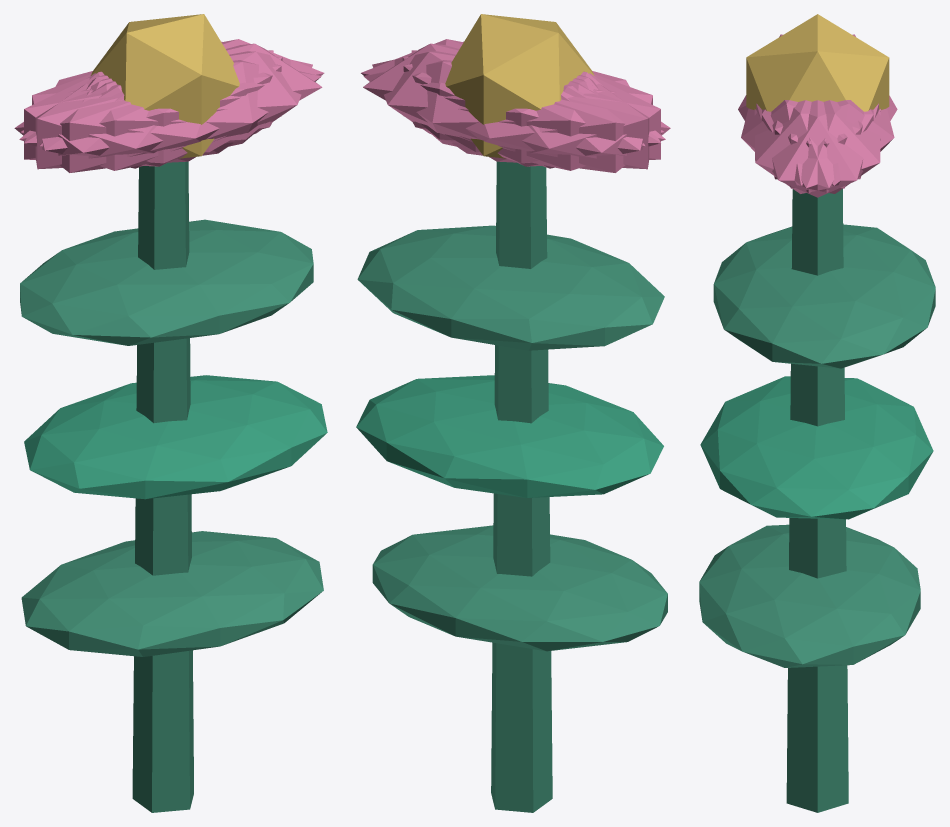
File: acacia-mangium.glb
3 renders of one model, left to right at view 1: azimuth 30°, elevation 25°; view 2: azimuth 150°, elevation 25°; view 3: azimuth 270°, elevation 25°, orthographic.
Visible parts, largest first — view 1: leaf0, leaf1, leaf2, stem, center, petal1, petal6, petal2, petal5, petal7, petal0, petal4 (+2 smaller); view 2: leaf2, leaf1, leaf0, stem, center, petal8, petal3, petal7, petal4, petal2, petal0, petal5 (+2 smaller); view 3: leaf1, leaf2, leaf0, stem, center, petal0, petal4, petal5, petal1, petal8.
Part boxes in pixels (left/top/right/bottom): leaf0: left=21, top=531, right=323, bottom=656; leaf1: left=24, top=375, right=327, bottom=499; leaf2: left=20, top=219, right=313, bottom=345; stem: left=132, top=161, right=193, bottom=812; center: left=90, top=14, right=239, bottom=158; petal1: left=19, top=60, right=321, bottom=170; petal6: left=14, top=73, right=233, bottom=172; petal2: left=35, top=50, right=273, bottom=169; petal5: left=40, top=51, right=312, bottom=163; petal7: left=24, top=56, right=282, bottom=166; petal0: left=90, top=43, right=322, bottom=152; petal4: left=21, top=39, right=324, bottom=143; leaf2: left=357, top=225, right=664, bottom=350; leaf1: left=356, top=375, right=663, bottom=497; leaf0: left=372, top=525, right=667, bottom=651; stem: left=491, top=161, right=552, bottom=812; center: left=445, top=14, right=594, bottom=158; petal8: left=363, top=60, right=665, bottom=170; petal3: left=452, top=73, right=670, bottom=172; petal7: left=411, top=50, right=649, bottom=169; petal4: left=372, top=51, right=645, bottom=163; petal2: left=402, top=56, right=660, bottom=166; petal0: left=363, top=43, right=594, bottom=152; petal5: left=361, top=39, right=664, bottom=143; leaf1: left=700, top=376, right=933, bottom=519; leaf2: left=713, top=224, right=935, bottom=368; leaf0: left=699, top=524, right=920, bottom=667; stem: left=786, top=189, right=848, bottom=812; center: left=746, top=14, right=889, bottom=111; petal0: left=756, top=100, right=878, bottom=197; petal4: left=762, top=100, right=880, bottom=193; petal5: left=754, top=100, right=873, bottom=193; petal1: left=741, top=100, right=862, bottom=185; petal8: left=772, top=100, right=894, bottom=185.
Size of the model in its own units: 0.1452 by 0.3622 by 0.1013.
